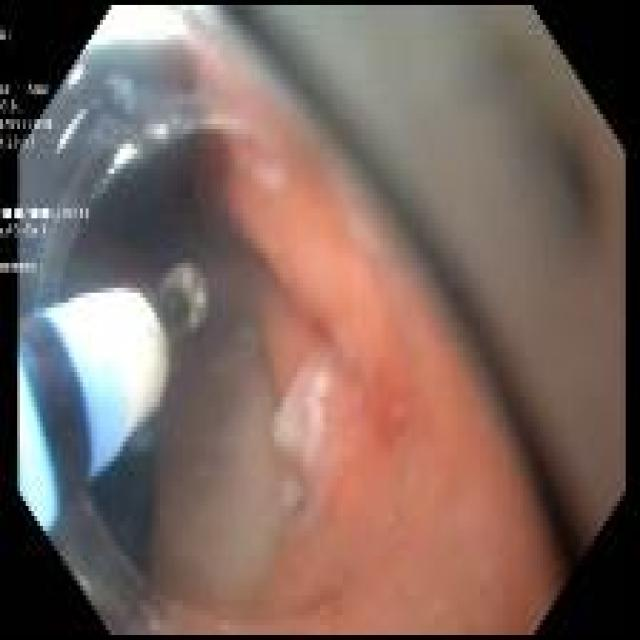color misalignment: (1, 205, 90, 242), (1, 101, 54, 150), (1, 261, 39, 276), (25, 82, 50, 99), (1, 26, 12, 46), (1, 84, 14, 98)
instrument: (20, 267, 211, 538)
saturation: (52, 291, 158, 436), (86, 9, 184, 48), (19, 383, 40, 481)
specularity: (58, 114, 85, 154), (116, 147, 134, 165), (69, 70, 81, 87), (108, 171, 114, 176)
